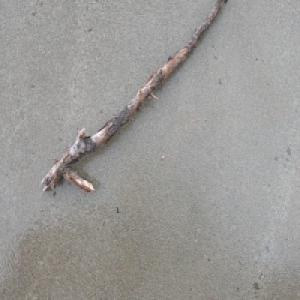Wood: (40, 0, 229, 196)
